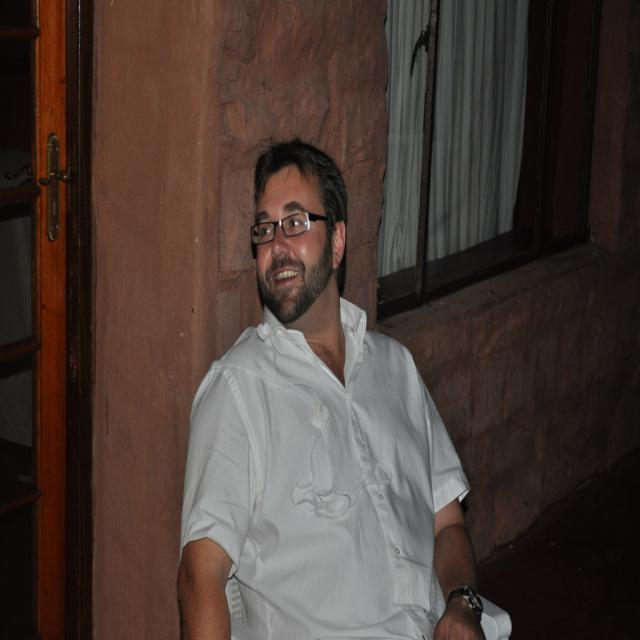Glasses: (245, 199, 324, 252)
